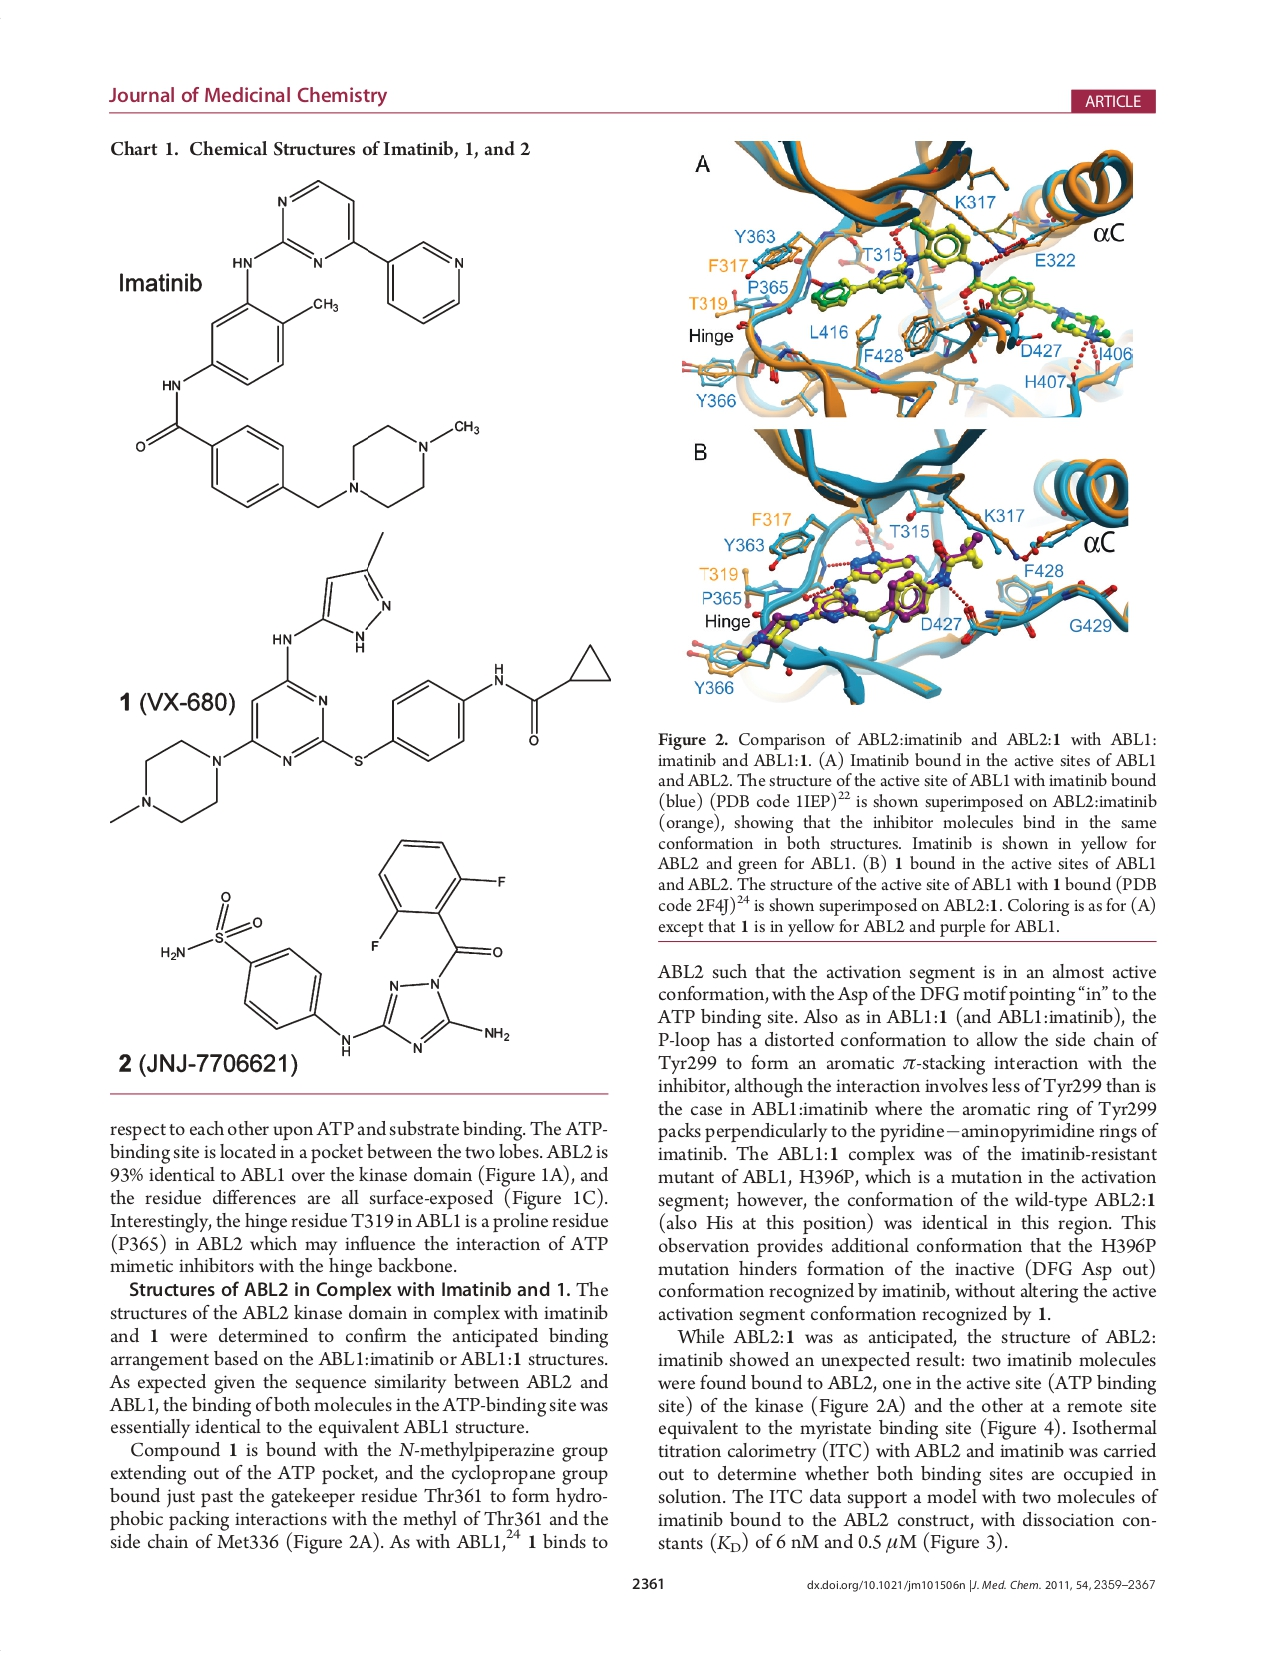exist_molecular: (100, 529, 614, 829), (129, 178, 483, 511), (154, 834, 515, 1060)
